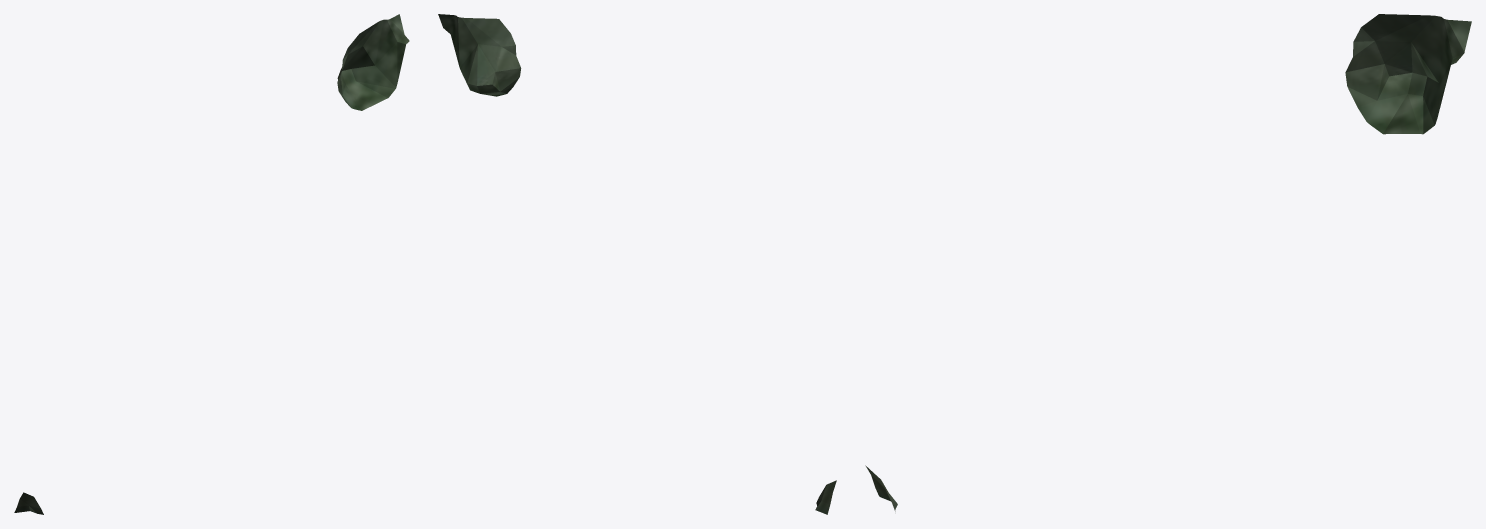
3 views of the same model, side by side, from view 1: azimuth 30°, elevation 25°; view 2: azimuth 150°, elevation 25°; view 3: azimuth 330°, elevation 25° (orthographic). The views are drawn at different scales.
Bounding box in the file's own units: 2.95 × 2.95 × 0.2649.
1 material, 1 textured.
